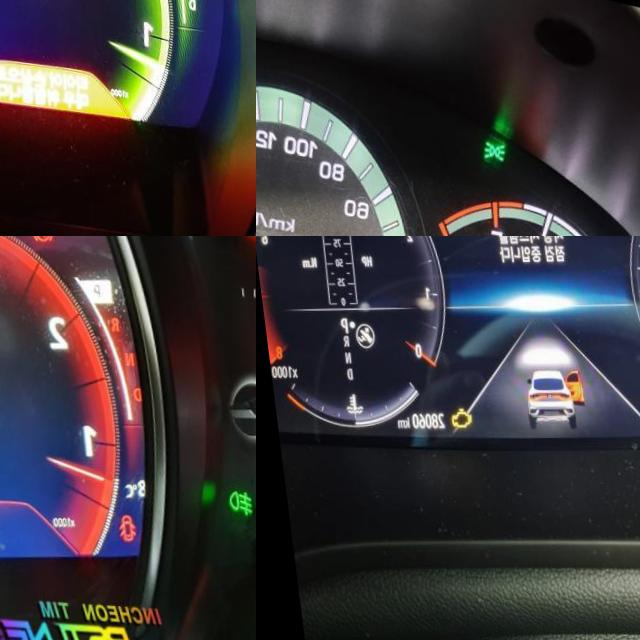Doors: (104, 512, 127, 542)
FrontFogLight: (217, 490, 246, 519)
SideLamp: (476, 140, 506, 166)
